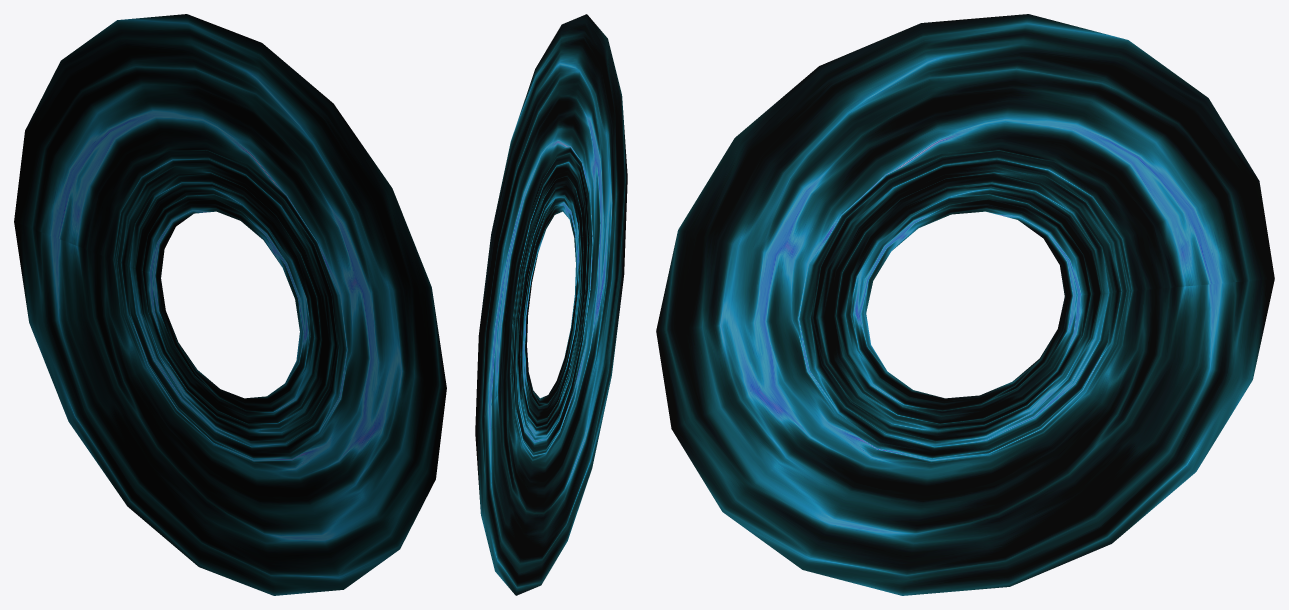
Rendered from xuanguan.FBX.
3 views of the same model, side by side, from view 1: azimuth 30°, elevation 25°; view 2: azimuth 150°, elevation 25°; view 3: azimuth 270°, elevation 25° (orthographic). The views are drawn at different scales.
Visible parts, largest first — view 1: Tube01; view 2: Tube01; view 3: Tube01.
Part boxes in pixels (box(x1,y1,x2,y2)): Tube01: box(14, 14, 446, 595); Tube01: box(475, 14, 627, 595); Tube01: box(656, 14, 1274, 595).
Size of the model in its own units: 78.68 by 302 by 295.
1 material, 1 textured.
